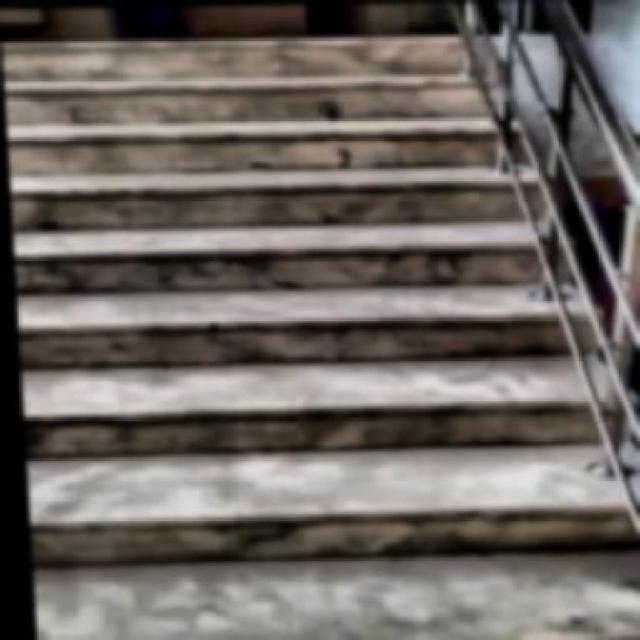stair: (3, 23, 569, 639)
